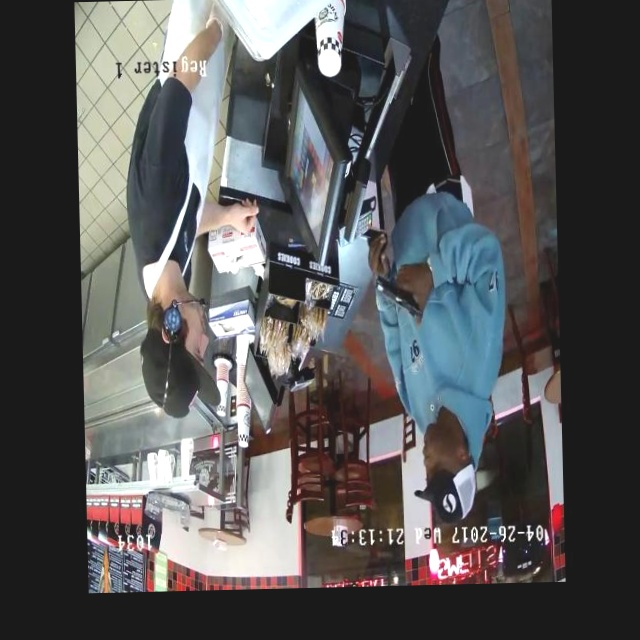gun: (366, 263, 436, 329)
